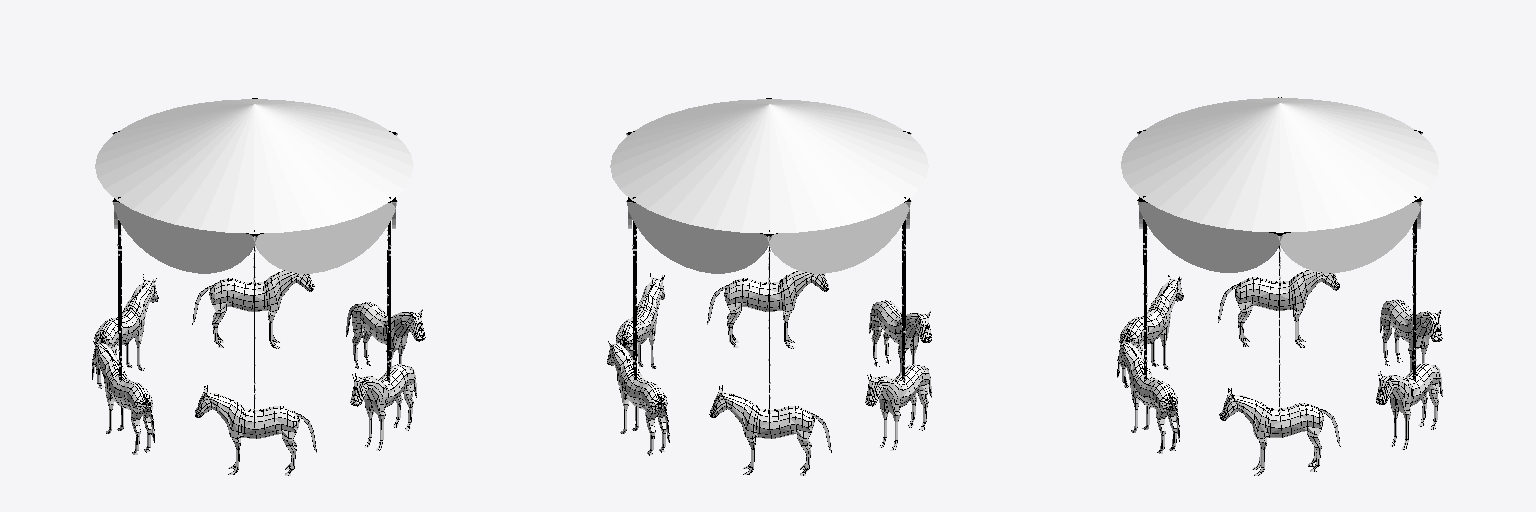
The model's file is lightkar.obj.
3 views of the same model, side by side, from view 1: azimuth 30°, elevation 25°; view 2: azimuth 150°, elevation 25°; view 3: azimuth 270°, elevation 25° (orthographic).
Parts seen in each view (by area): view 1: Cone, Connect.1_3, Connect.1_4, Plane_4, Plane_1, Plane_3, Plane_5, Plane, Plane_2; view 2: Cone, Connect.1_0, Connect.1_5, Plane_2, Plane_5, Plane_1, Plane_3, Plane_4, Plane; view 3: Cone, Connect.1_1, Connect.1_2, Plane, Plane_3, Plane_5, Plane_1, Plane_2, Plane_4.
Boxes of the visible parts, <box> form: Cone: <box>95,99,413,233</box>; Connect.1_3: <box>251,200,397,273</box>; Connect.1_4: <box>112,200,258,273</box>; Plane_4: <box>195,385,316,475</box>; Plane_1: <box>192,270,314,348</box>; Plane_3: <box>92,339,154,454</box>; Plane_5: <box>350,364,416,450</box>; Plane: <box>346,302,425,368</box>; Plane_2: <box>92,274,158,388</box>; Cone: <box>610,99,928,233</box>; Connect.1_0: <box>626,200,772,273</box>; Connect.1_5: <box>765,200,911,273</box>; Plane_2: <box>709,385,831,475</box>; Plane_5: <box>707,270,828,348</box>; Plane_1: <box>607,338,669,455</box>; Plane_3: <box>865,364,931,450</box>; Plane_4: <box>869,300,931,371</box>; Plane: <box>616,273,664,389</box>; Cone: <box>1121,98,1438,232</box>; Connect.1_1: <box>1276,199,1422,272</box>; Connect.1_2: <box>1137,199,1283,272</box>; Plane: <box>1219,388,1340,475</box>; Plane_3: <box>1218,270,1339,347</box>; Plane_5: <box>1117,337,1179,453</box>; Plane_1: <box>1376,363,1442,449</box>; Plane_2: <box>1380,299,1442,371</box>; Plane_4: <box>1117,275,1183,387</box>.
Bounding box in the file's own units: 97.13 × 99.06 × 96.15.